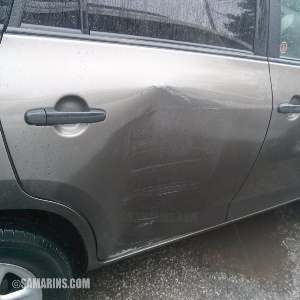door_scratch: (101, 78, 271, 239)
